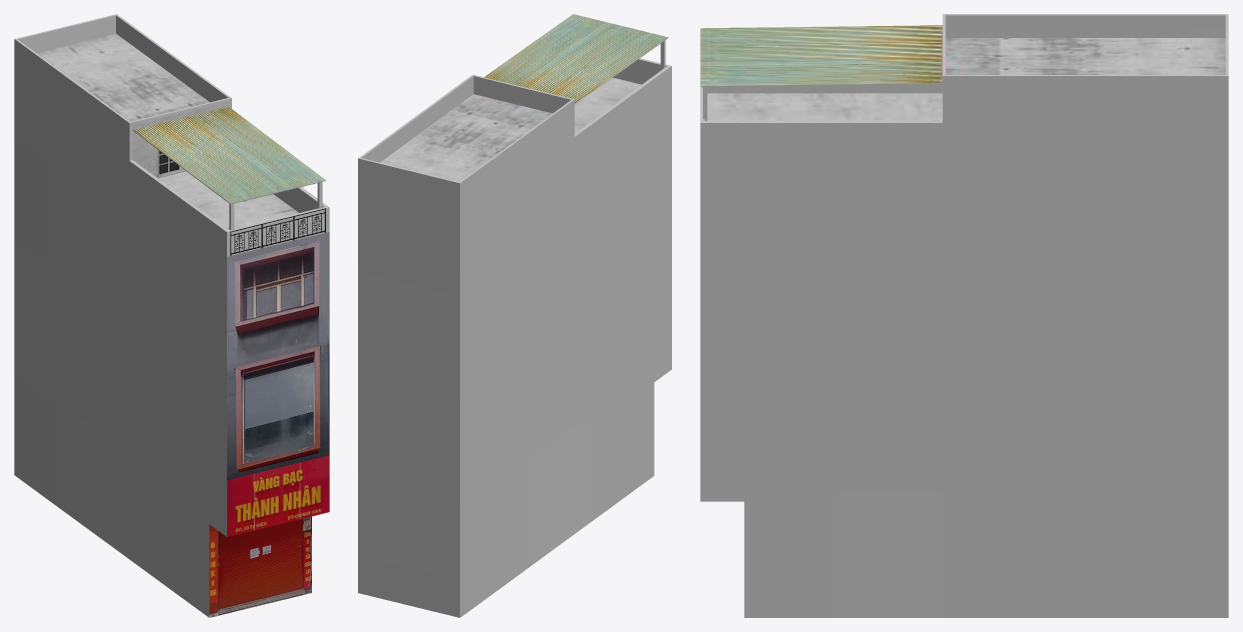
3 views of the same model, side by side, from view 1: azimuth 30°, elevation 25°; view 2: azimuth 150°, elevation 25°; view 3: azimuth 270°, elevation 25° (orthographic). The views are drawn at different scales.
Visible parts, largest first — view 1: HN929___Vang_Bac_Thanh_Nhan; view 2: HN929___Vang_Bac_Thanh_Nhan; view 3: HN929___Vang_Bac_Thanh_Nhan.
Part boxes in pixels (left/top/right/bottom): HN929___Vang_Bac_Thanh_Nhan: left=14, top=14, right=329, bottom=617; HN929___Vang_Bac_Thanh_Nhan: left=358, top=14, right=671, bottom=617; HN929___Vang_Bac_Thanh_Nhan: left=700, top=14, right=1228, bottom=617.
Size of the model in its own units: 4 by 16.28 by 14.38.
1 material, 1 textured.
